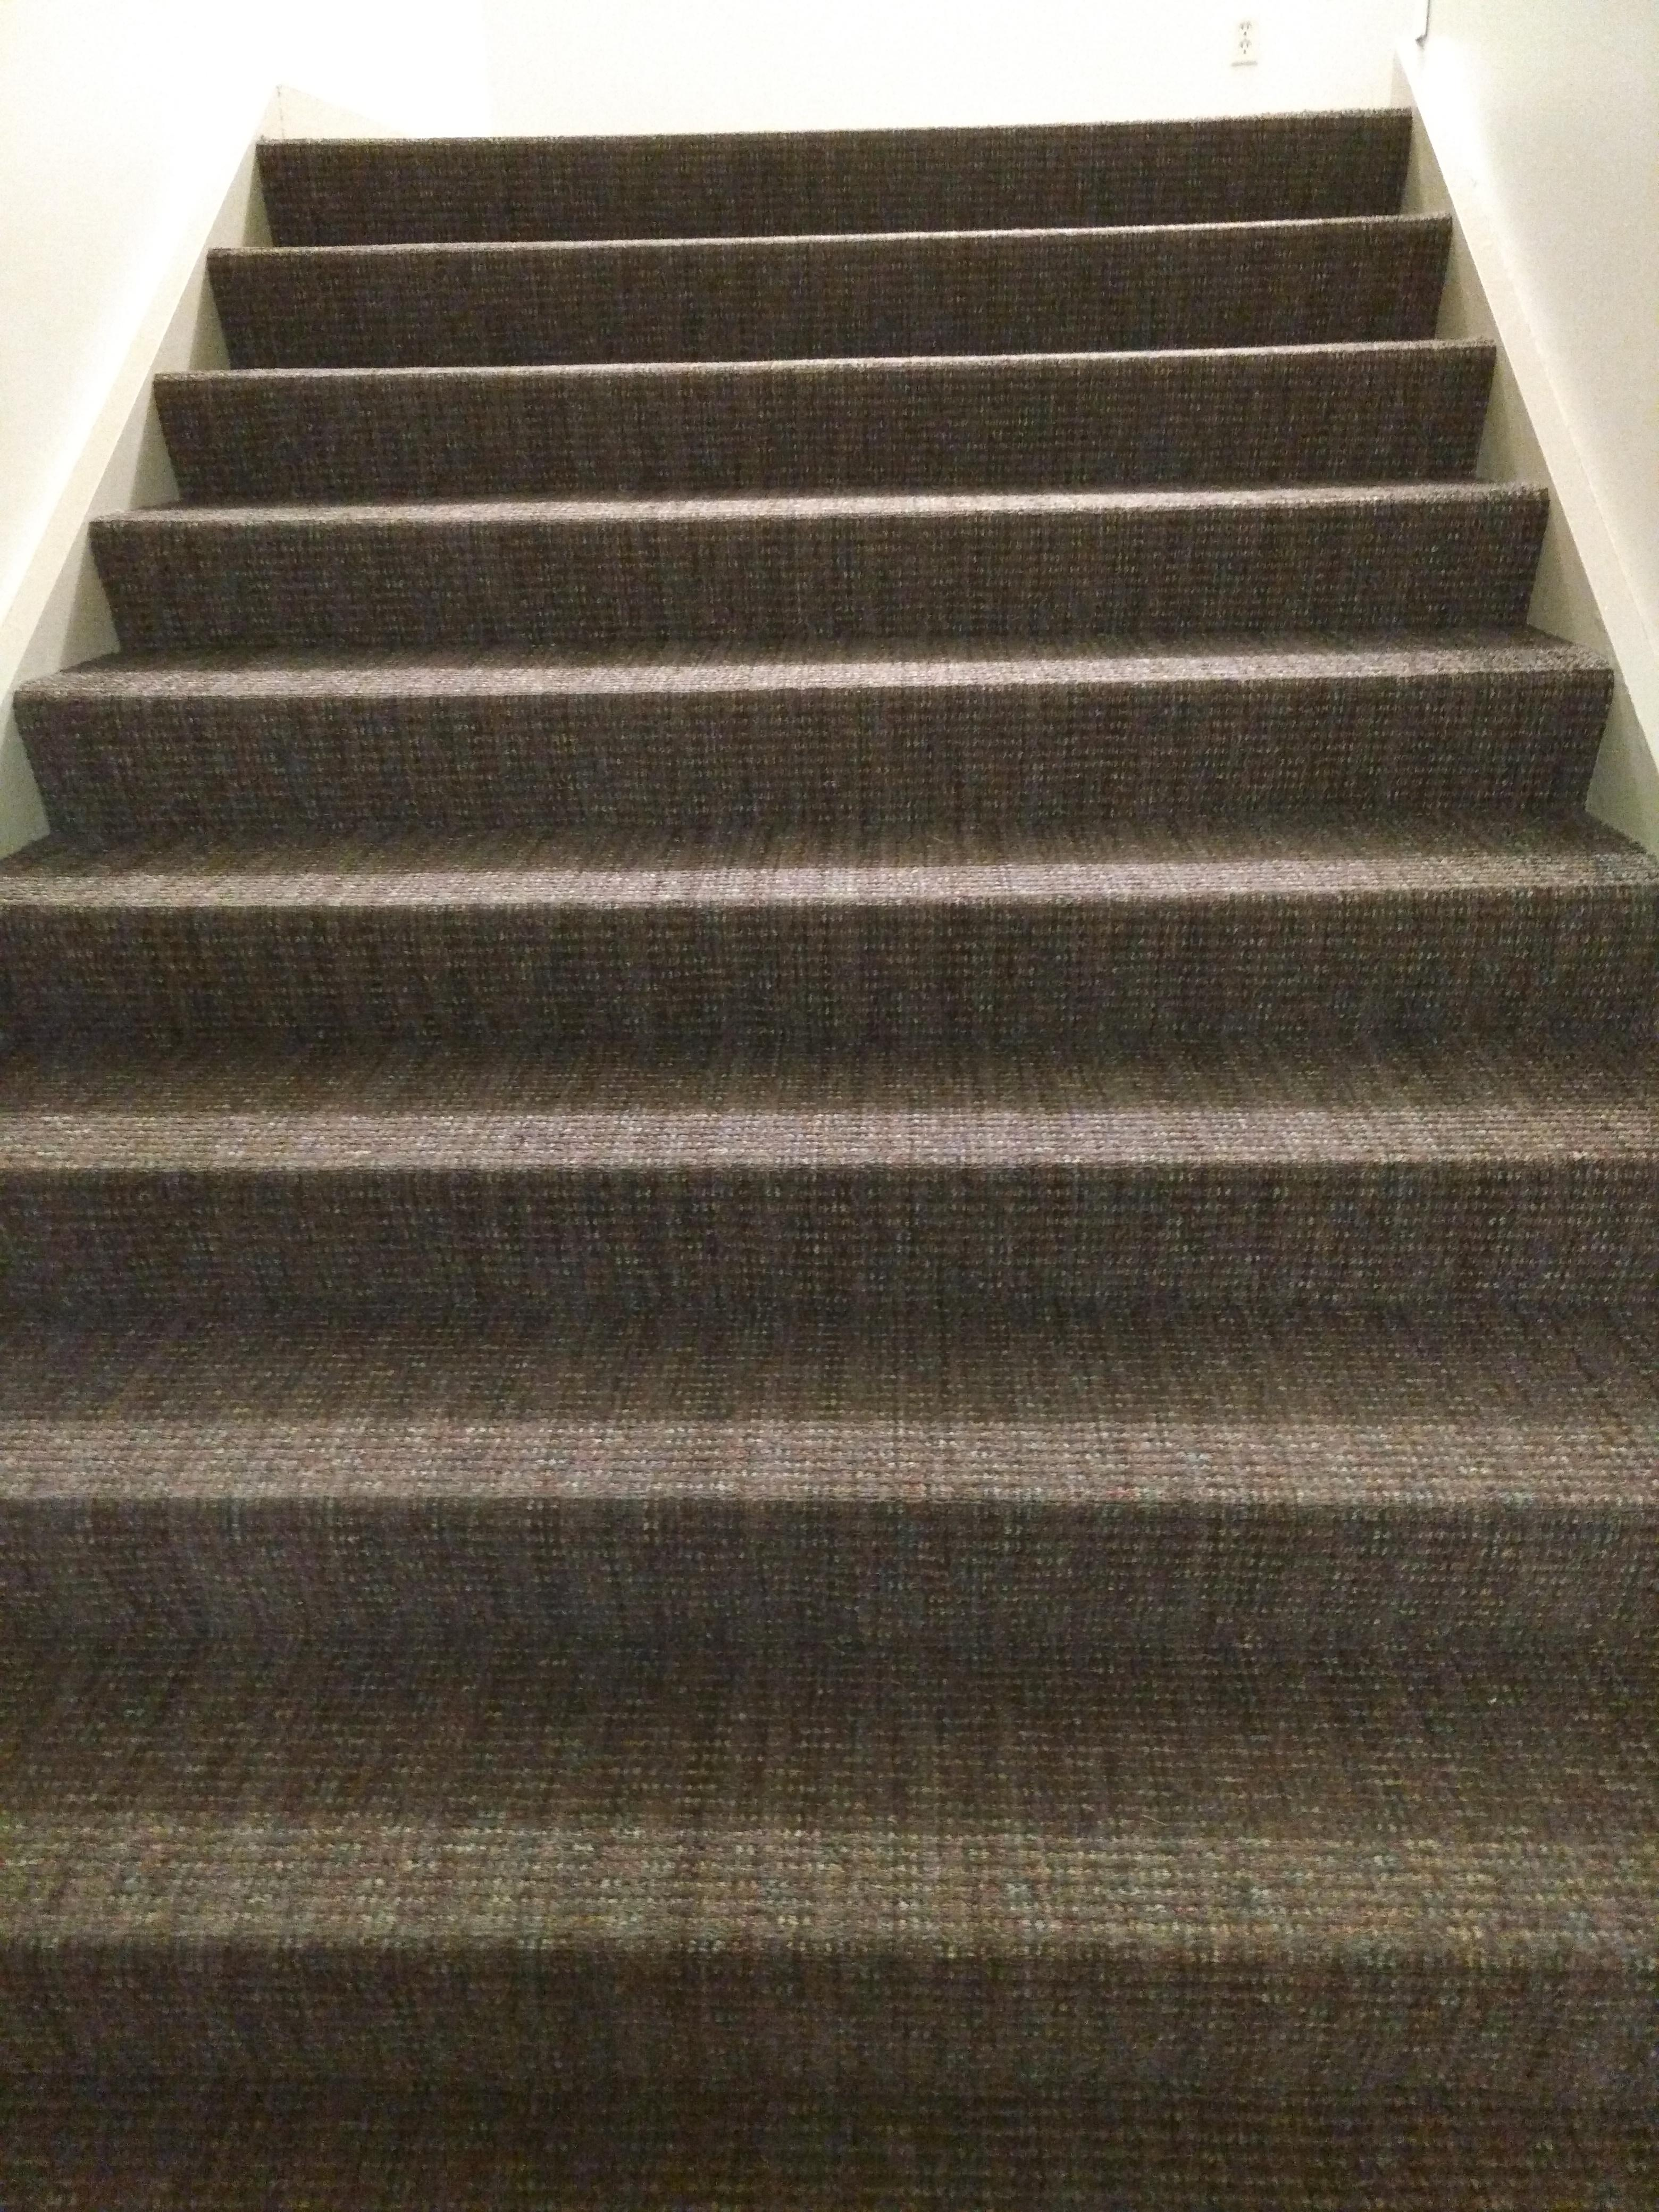stairs_up: (5, 124, 1659, 2081)
